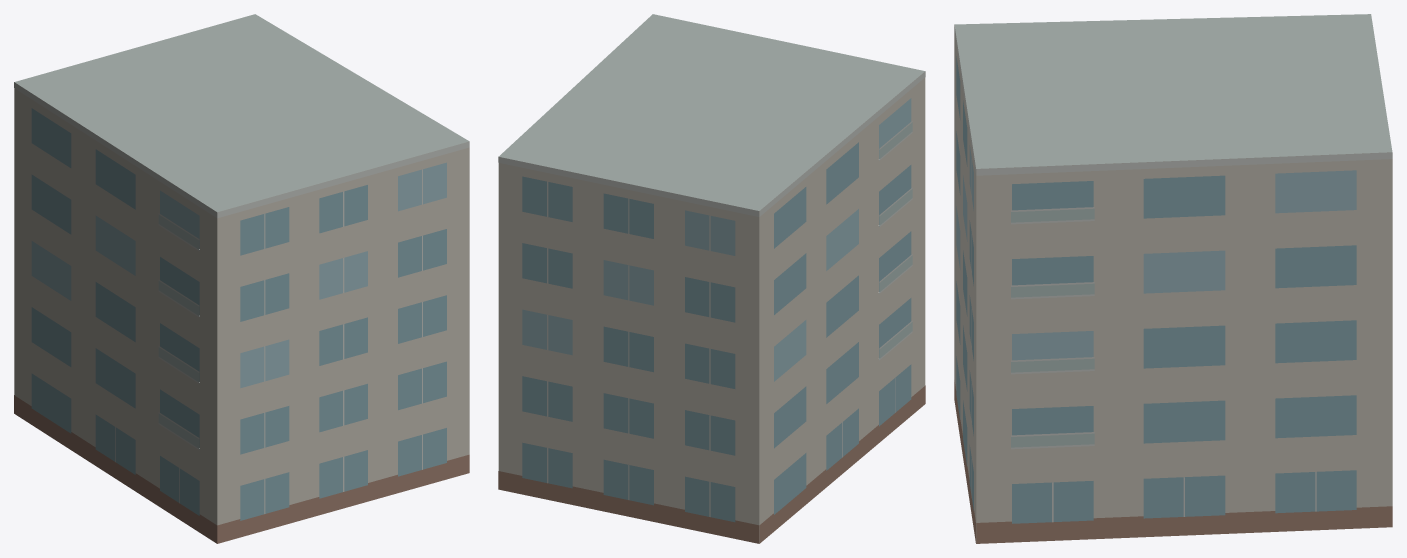
Rendered from survey-upis-33047487.glb.
3 renders of one model, left to right at view 1: azimuth 30°, elevation 25°; view 2: azimuth 150°, elevation 25°; view 3: azimuth 270°, elevation 25°, orthographic. The views are drawn at different scales.
Visible parts, largest first — view 1: survey-upis-33047487.tmp; view 2: survey-upis-33047487.tmp; view 3: survey-upis-33047487.tmp.
Part boxes in pixels (box(x1,y1,x2,y2)): survey-upis-33047487.tmp: box(14, 14, 469, 543); survey-upis-33047487.tmp: box(498, 14, 925, 543); survey-upis-33047487.tmp: box(954, 14, 1392, 543).
Bounding box in the file's own units: 11.92 × 13.44 × 14.24.
